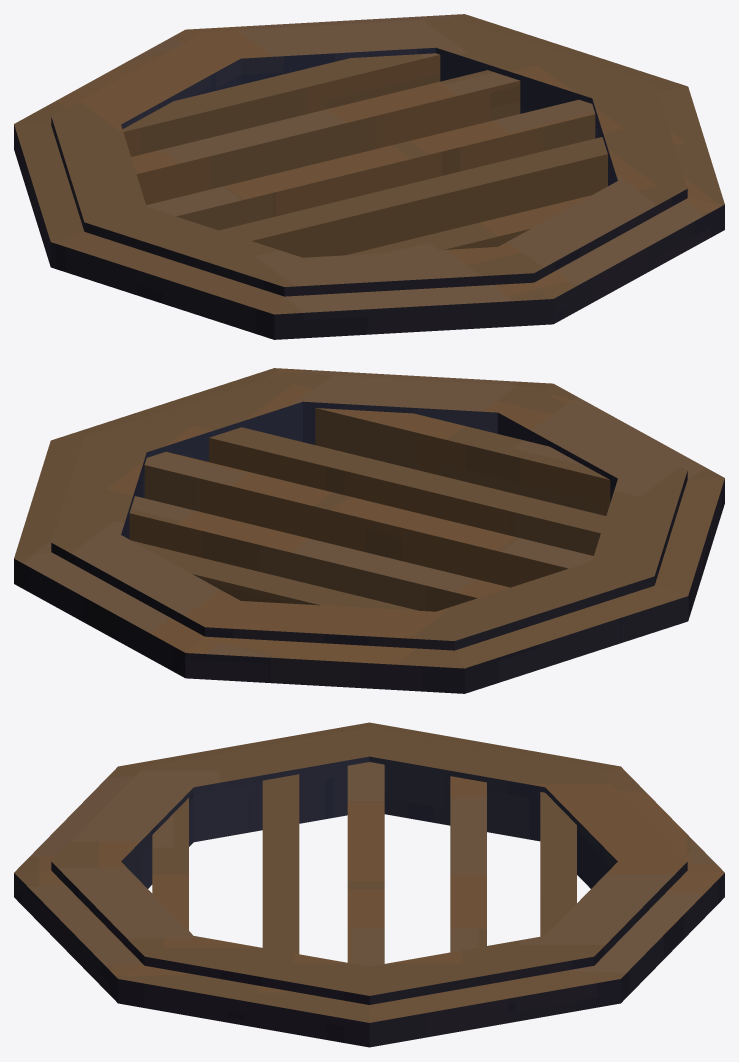
The model's file is Vent.fbx.
The picture shows the model from 3 angles, top to bottom: view 1: azimuth 30°, elevation 25°; view 2: azimuth 150°, elevation 25°; view 3: azimuth 270°, elevation 25°; orthographic projection. The views are drawn at different scales.
Visible parts, largest first — view 1: pCylinder2; view 2: pCylinder2; view 3: pCylinder2.
Part boxes in pixels (box(x1,y1,x2,y2)): pCylinder2: box(14, 14, 724, 339); pCylinder2: box(14, 368, 724, 693); pCylinder2: box(14, 722, 724, 1047).
Size of the model in its own units: 224 by 19.18 by 224.
